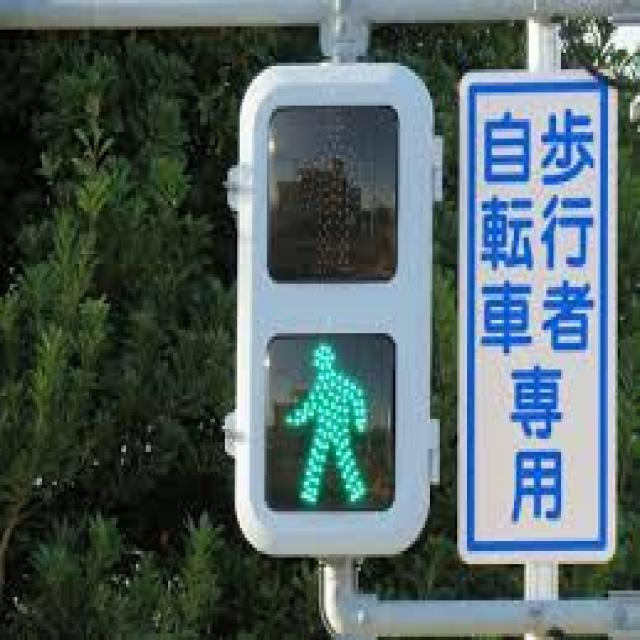trafficlight: (232, 60, 423, 548)
